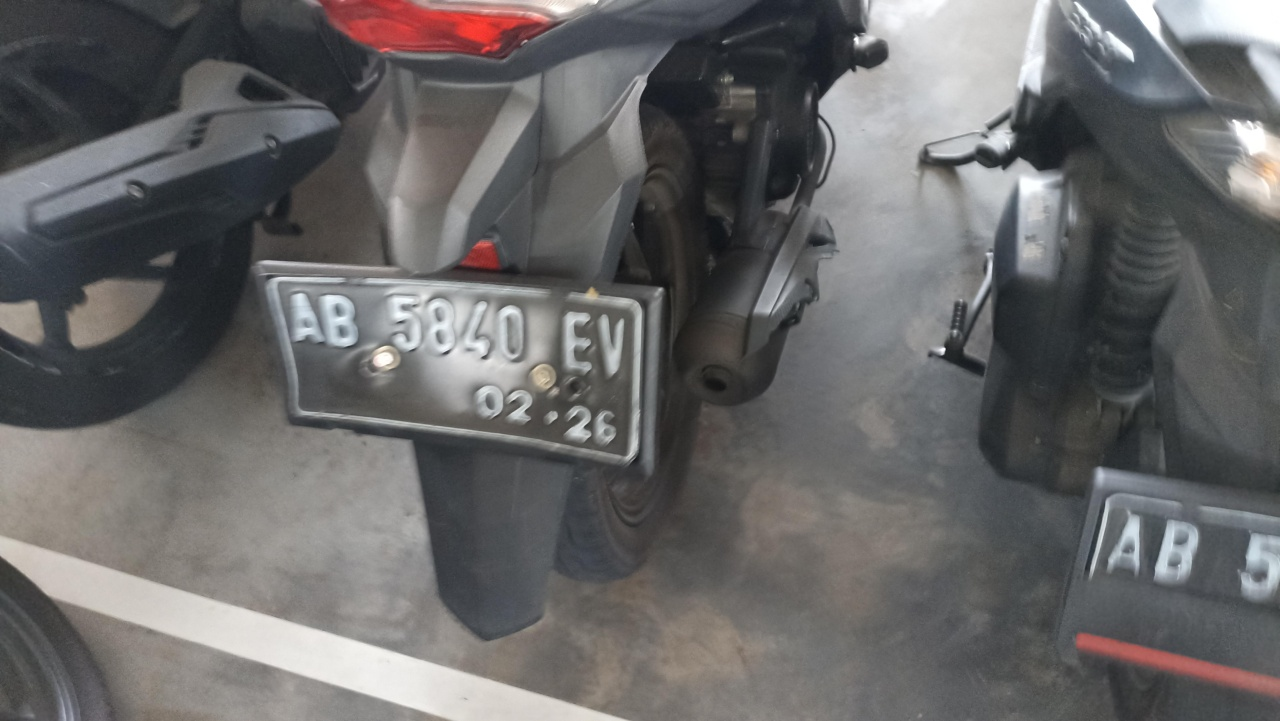plate: (266, 274, 654, 468)
